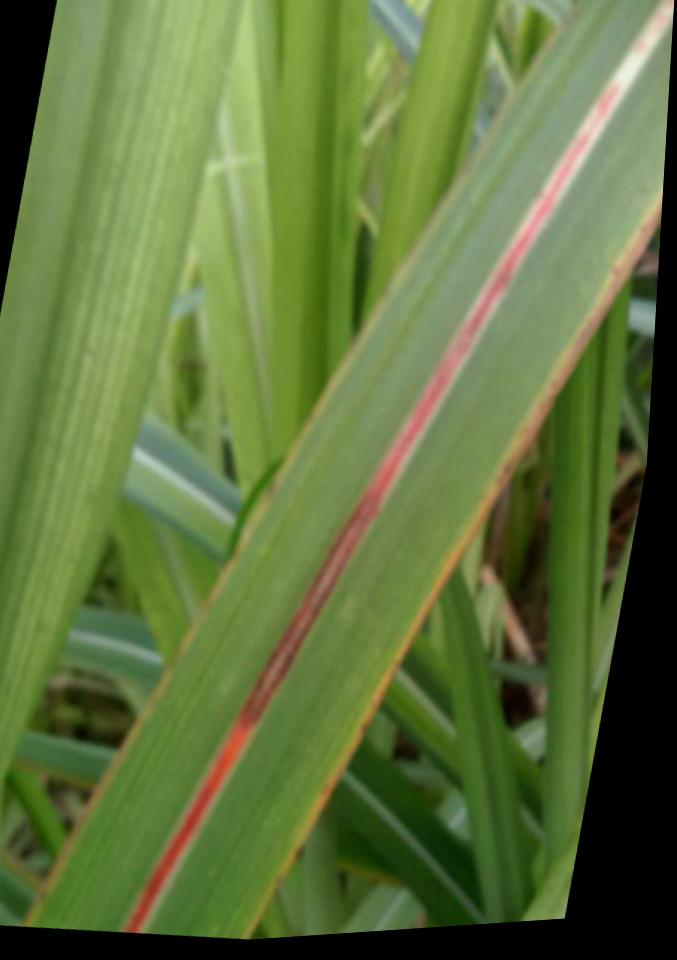RedRot: (121, 79, 619, 932)
